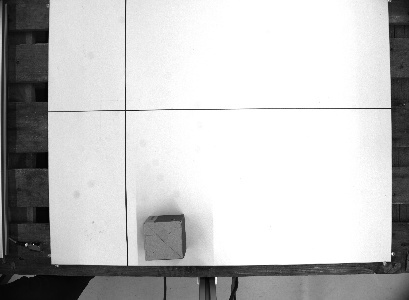b7: (140, 211, 188, 262)
